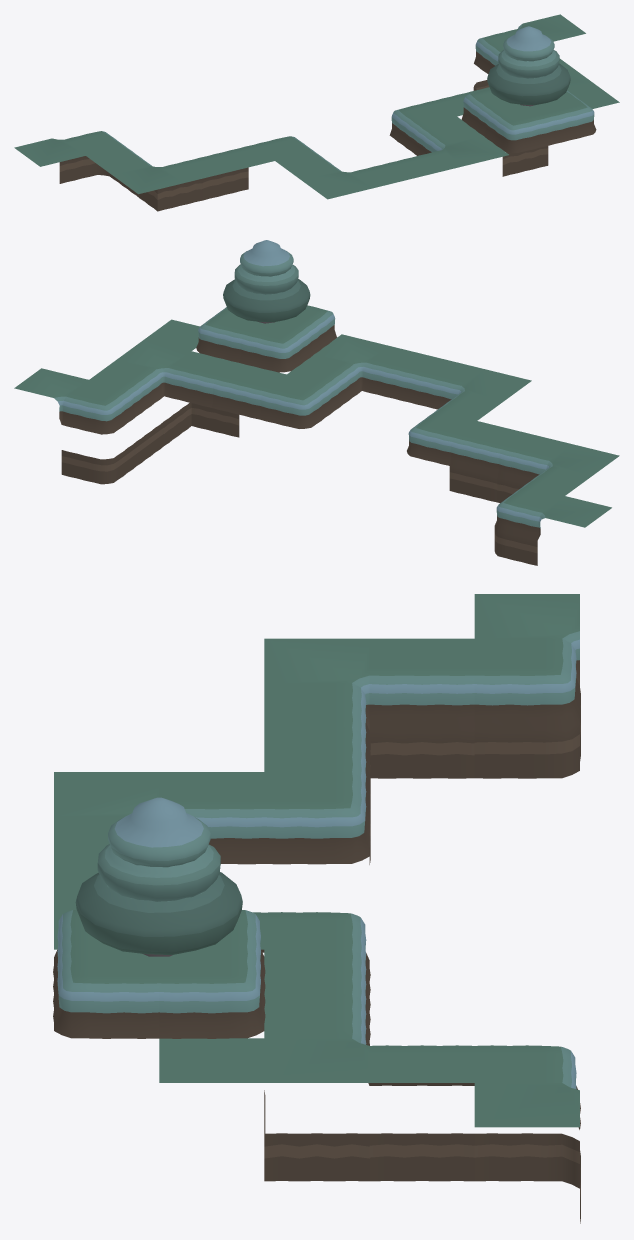
Rendered from NightGrassBlocks.glb.
The picture shows the model from 3 angles, top to bottom: view 1: azimuth 30°, elevation 25°; view 2: azimuth 150°, elevation 25°; view 3: azimuth 270°, elevation 25°; orthographic projection. The views are drawn at different scales.
Visible parts, largest first — view 1: U-Shaped Grass, Grass Island, Tree, Long Inner Edge Grass Block, Long Edge Grass Block, Long Outer Edge Grass Block, Long Isolated Grass Block, Under Inner Edge Grass Block, Outer Edge Grass Block, Isolated Grass Block, Flat Grass Block, Edge Grass Block (+1 smaller); view 2: U-Shaped Grass, Grass Island, Inner Edge Grass Block, Long Inner Edge Grass Block, Tree, Long Edge Grass Block, Long Outer Edge Grass Block, Outer Edge Grass Block, Edge Grass Block, Under Outer Edge Grass Block, Under Inner Edge Grass Block, Isolated Grass Block (+3 smaller); view 3: U-Shaped Grass, Long Inner Edge Grass Block, Grass Island, Tree, Long Outer Edge Grass Block, Inner Edge Grass Block, Under Inner Edge Grass Block, Under Outer Edge Grass Block, Under Edge Grass Block, Long Isolated Grass Block, Long Edge Grass Block, Edge Grass Block (+3 smaller).
Part boxes in pixels (bbox=[...]): U-Shaped Grass: bbox=[253, 100, 508, 199]; Grass Island: bbox=[461, 89, 596, 152]; Tree: bbox=[487, 26, 570, 106]; Long Inner Edge Grass Block: bbox=[86, 146, 228, 211]; Long Edge Grass Block: bbox=[203, 145, 274, 200]; Long Outer Edge Grass Block: bbox=[59, 131, 131, 191]; Long Isolated Grass Block: bbox=[14, 138, 85, 166]; Under Inner Edge Grass Block: bbox=[502, 146, 548, 176]; Outer Edge Grass Block: bbox=[474, 29, 519, 73]; Isolated Grass Block: bbox=[518, 14, 585, 41]; Flat Grass Block: bbox=[567, 83, 619, 108]; Edge Grass Block: bbox=[435, 89, 481, 116]; U-Shaped Grass: bbox=[259, 334, 531, 465]; Grass Island: bbox=[196, 305, 336, 372]; Inner Edge Grass Block: bbox=[89, 339, 238, 415]; Long Inner Edge Grass Block: bbox=[497, 432, 619, 502]; Tree: bbox=[223, 240, 310, 323]; Long Edge Grass Block: bbox=[449, 421, 524, 502]; Long Outer Edge Grass Block: bbox=[494, 486, 564, 565]; Outer Edge Grass Block: bbox=[61, 380, 136, 434]; Edge Grass Block: bbox=[211, 363, 286, 419]; Under Outer Edge Grass Block: bbox=[61, 441, 136, 484]; Under Inner Edge Grass Block: bbox=[164, 403, 239, 445]; Isolated Grass Block: bbox=[14, 368, 88, 424]; U-Shaped Grass: bbox=[54, 772, 370, 996]; Long Inner Edge Grass Block: bbox=[264, 638, 474, 781]; Grass Island: bbox=[53, 910, 265, 1038]; Tree: bbox=[75, 797, 242, 956]; Long Outer Edge Grass Block: bbox=[474, 638, 580, 778]; Inner Edge Grass Block: bbox=[264, 994, 474, 1085]; Under Inner Edge Grass Block: bbox=[264, 1090, 369, 1181]; Under Outer Edge Grass Block: bbox=[474, 1133, 580, 1223]; Under Edge Grass Block: bbox=[369, 1133, 474, 1181]; Long Isolated Grass Block: bbox=[474, 594, 579, 685]; Long Edge Grass Block: bbox=[264, 727, 370, 864]; Edge Grass Block: bbox=[264, 949, 370, 1041].
Bounding box in the file's own units: 24 × 7.08 × 10.04.
Materials: 2 (2 with a texture image).
